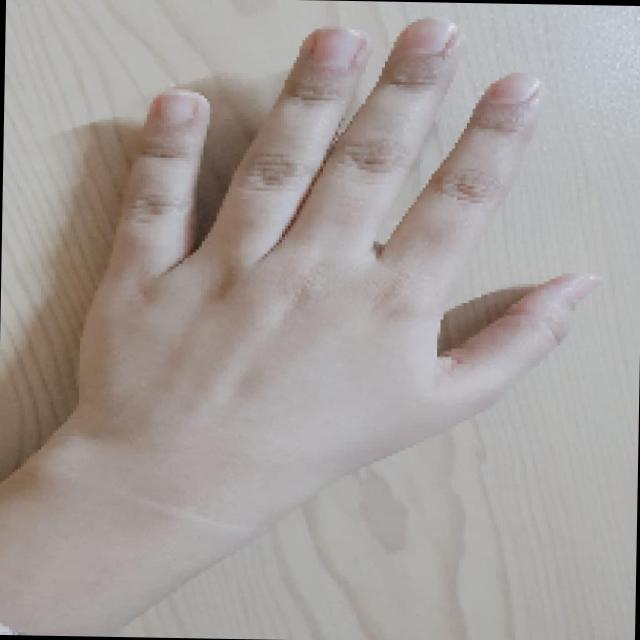Nail: (312, 28, 364, 68), (406, 18, 456, 53), (495, 72, 539, 103), (160, 90, 194, 123), (577, 276, 601, 302)
